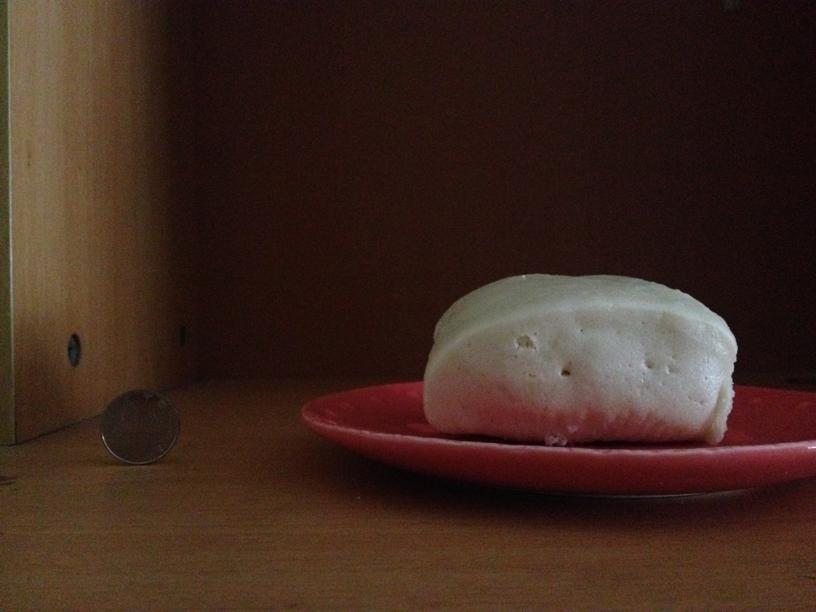bun: (418, 270, 735, 444)
coin: (99, 390, 178, 466)
